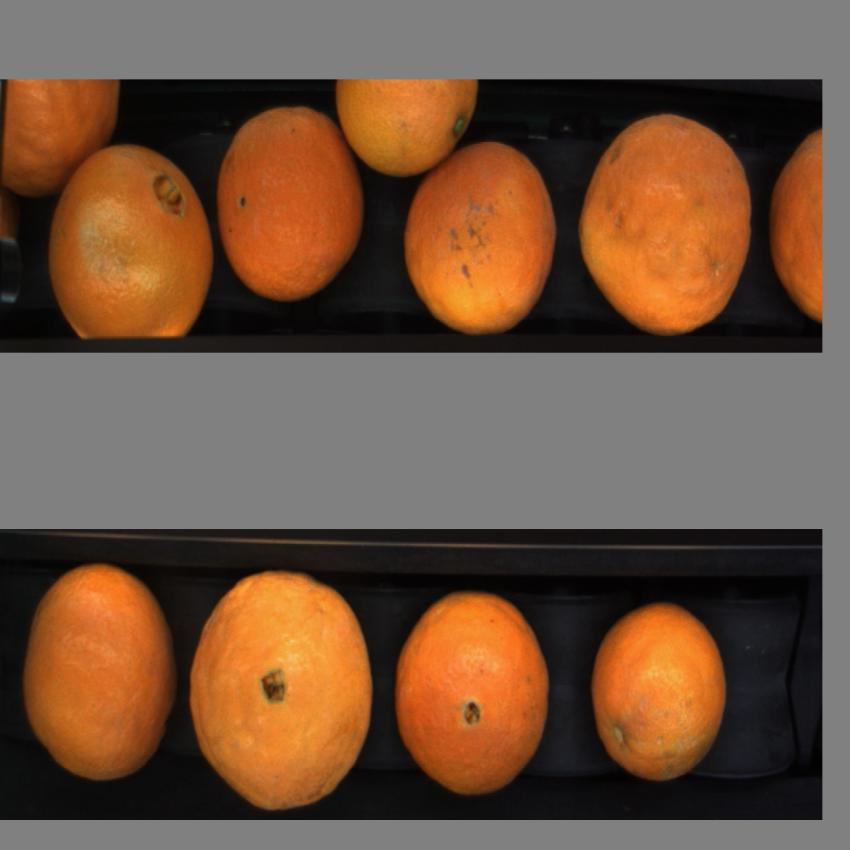Buen estado: (183, 559, 378, 814), (22, 559, 182, 800), (391, 585, 555, 804), (47, 135, 214, 344), (400, 132, 560, 338), (215, 103, 368, 306), (590, 601, 730, 790), (330, 80, 484, 182), (0, 81, 129, 199)
Mal estado: (574, 110, 755, 342), (764, 119, 822, 338)
